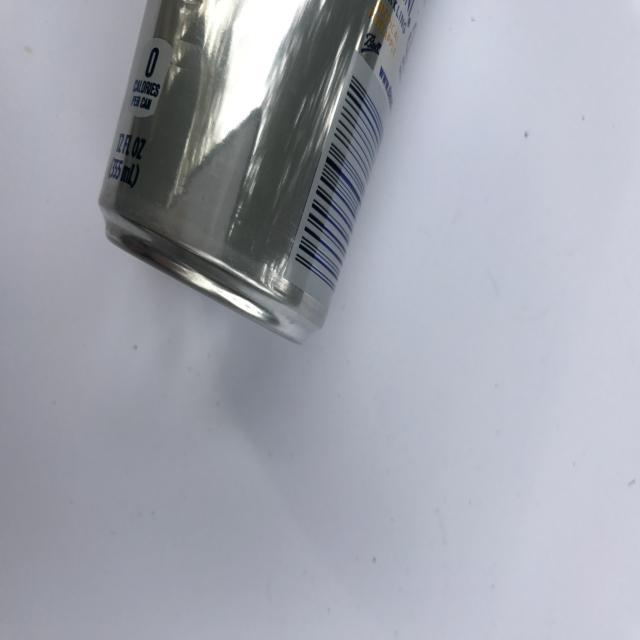metal: (98, 1, 426, 346)
